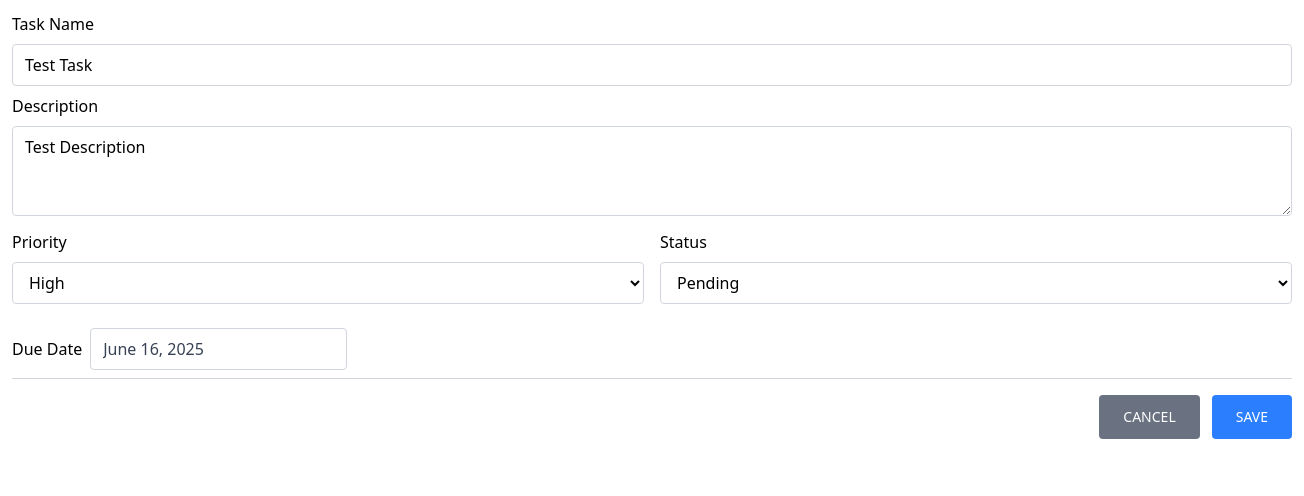
Test: TaskForm › shows error message when task update fails
What coordinates should you click on to do the following:
click the button "Save"
I would click on:
 (1252, 417)
Its box is [1212, 395, 1292, 439].
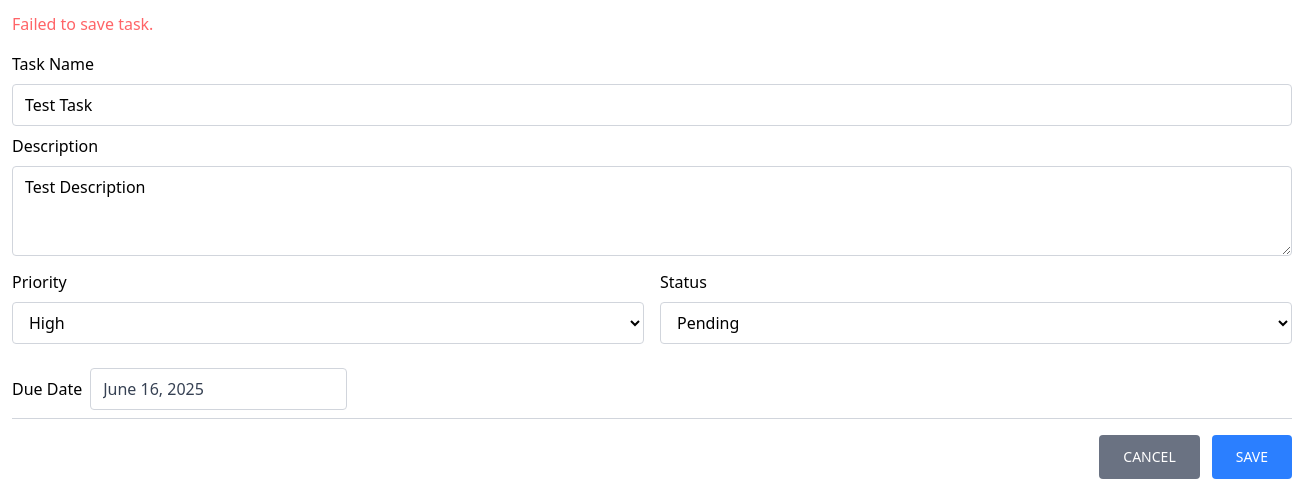
Now the text "Failed to save task." is shown, box [12, 13, 153, 35]
